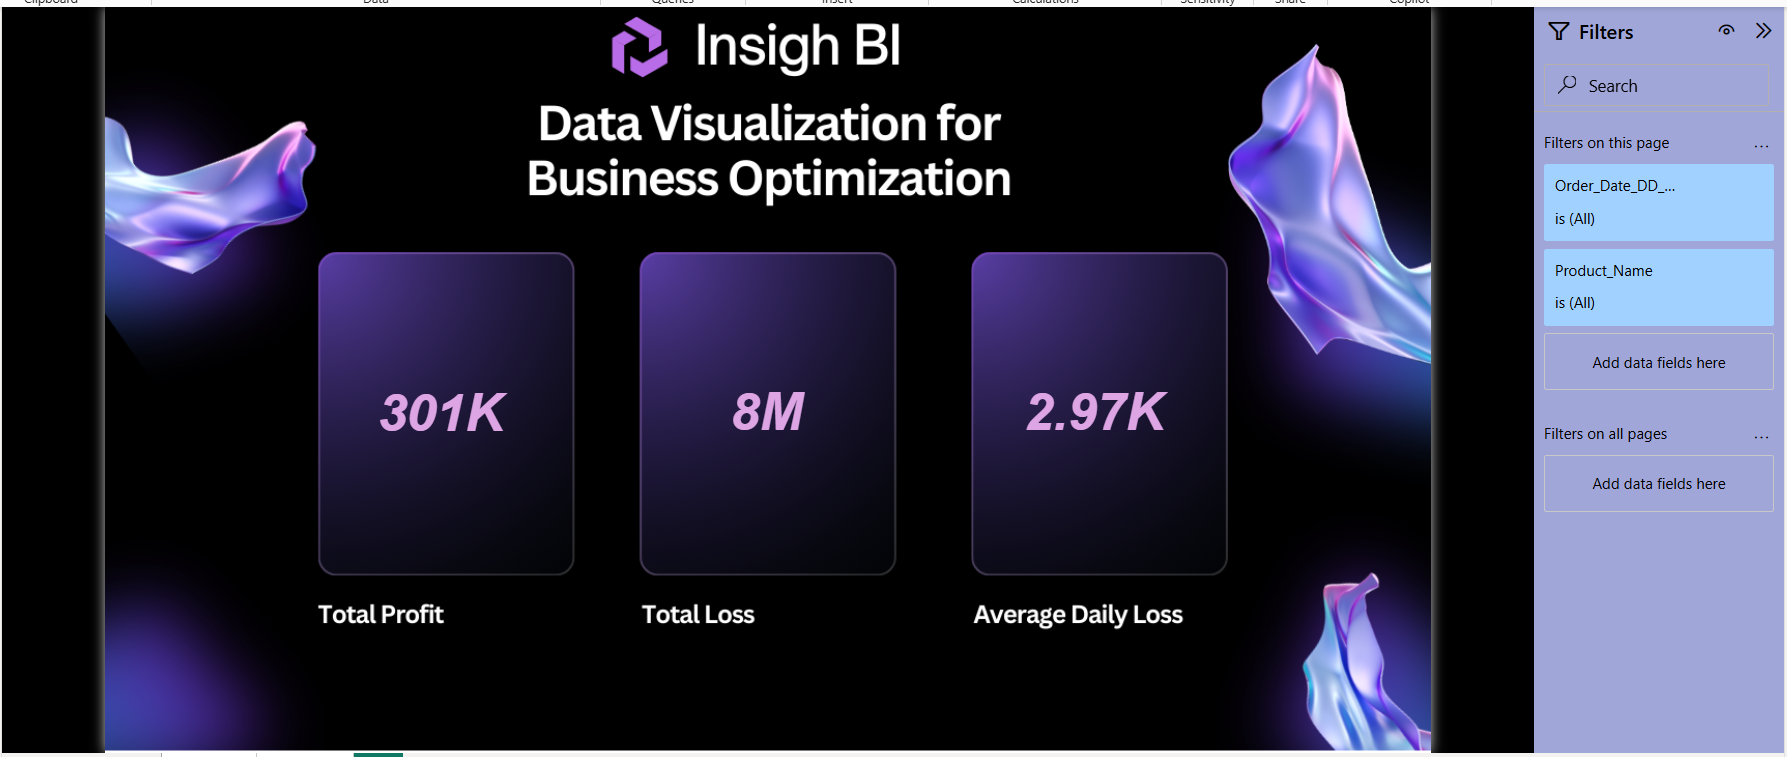

The dashboard page shown, as its layout file describes it:
{"tool":"powerbi","page":{"name":"Page 2","canvas":[1280,720],"ordinal":1},"visuals":[{"type":"advanceCardE03760C5AB684758B56AA29F9E6C257B","fields":{"mainMeasure":["Measures Table.Total Profit"]},"box":[214,262.3,224.9,261.1],"z":0},{"type":"advanceCardE03760C5AB684758B56AA29F9E6C257B","fields":{"mainMeasure":["Measures Table.Total Loss"]},"box":[528.3,255.1,222.4,274.4],"z":1000},{"type":"advanceCardE03760C5AB684758B56AA29F9E6C257B","fields":{"mainMeasure":["Measures Table.Average Loss Per Day"]},"box":[849.9,249,214,287.7],"z":2000}]}

Visuals, with their boxes on the page's 1280x720 design canvas (x1, y1, x2, y2). These are canvas units, not pixel positions in the 1787x757 screenshot, which may show the page scaled, cropped or inside an application window:
advanceCardE03760C5AB684758B56AA29F9E6C257B - Measures Table.Total Profit: <region>214, 262, 439, 523</region>
advanceCardE03760C5AB684758B56AA29F9E6C257B - Measures Table.Total Loss: <region>528, 255, 751, 530</region>
advanceCardE03760C5AB684758B56AA29F9E6C257B - Measures Table.Average Loss Per Day: <region>850, 249, 1064, 537</region>
